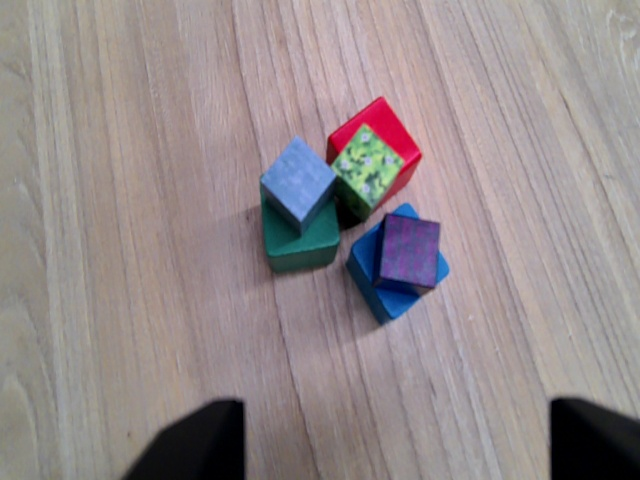brick: (379, 214, 441, 295)
grass: (331, 130, 403, 211)
stone: (261, 139, 334, 232)
